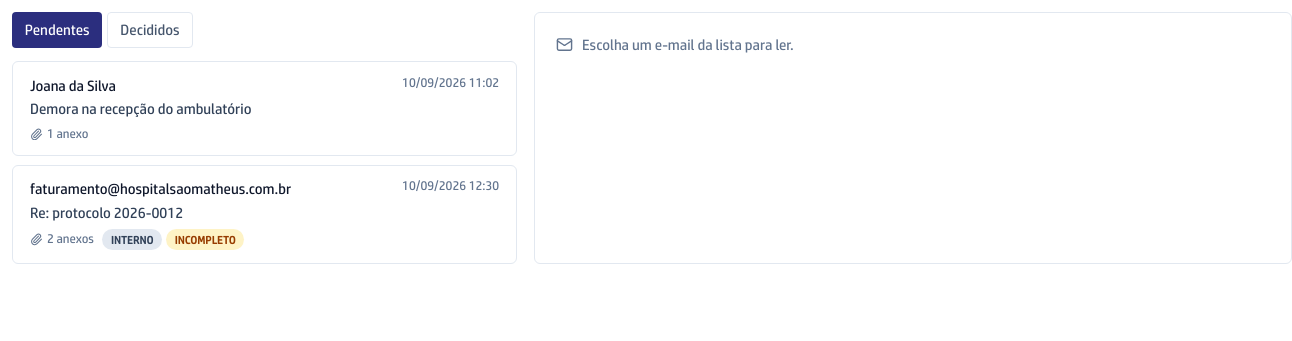
Test: o painel do item › anexo que não veio aparece pelo nome, sem link para baixar
Click the button "Demora na recepção do ambulatório" at point(73, 85), box [12,61,517,156]
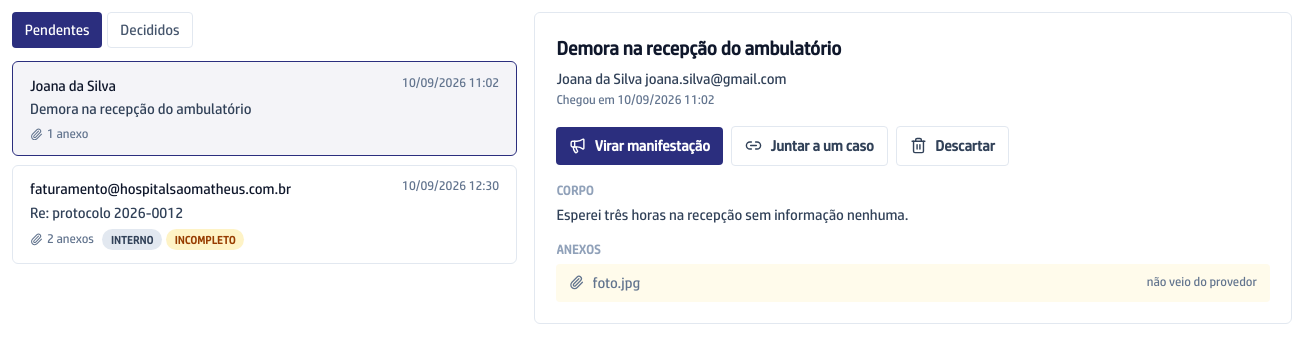
Expected: the text "foto.jpg" is shown, [593,274,640,291]
Expected: the text "não veio do provedor" is shown, [1147,274,1257,291]
